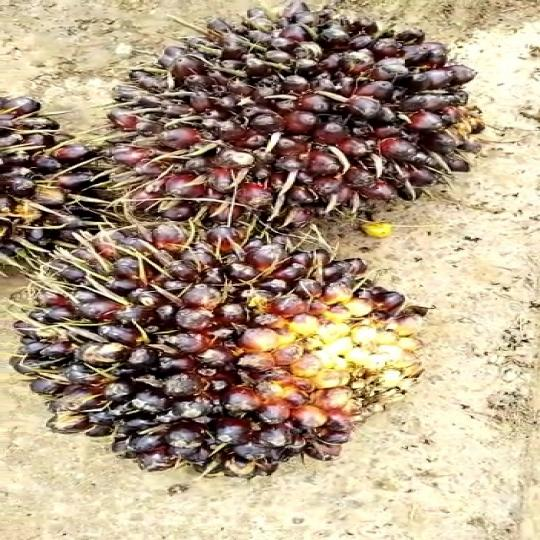mentah: (0, 222, 448, 479), (96, 0, 491, 240)
